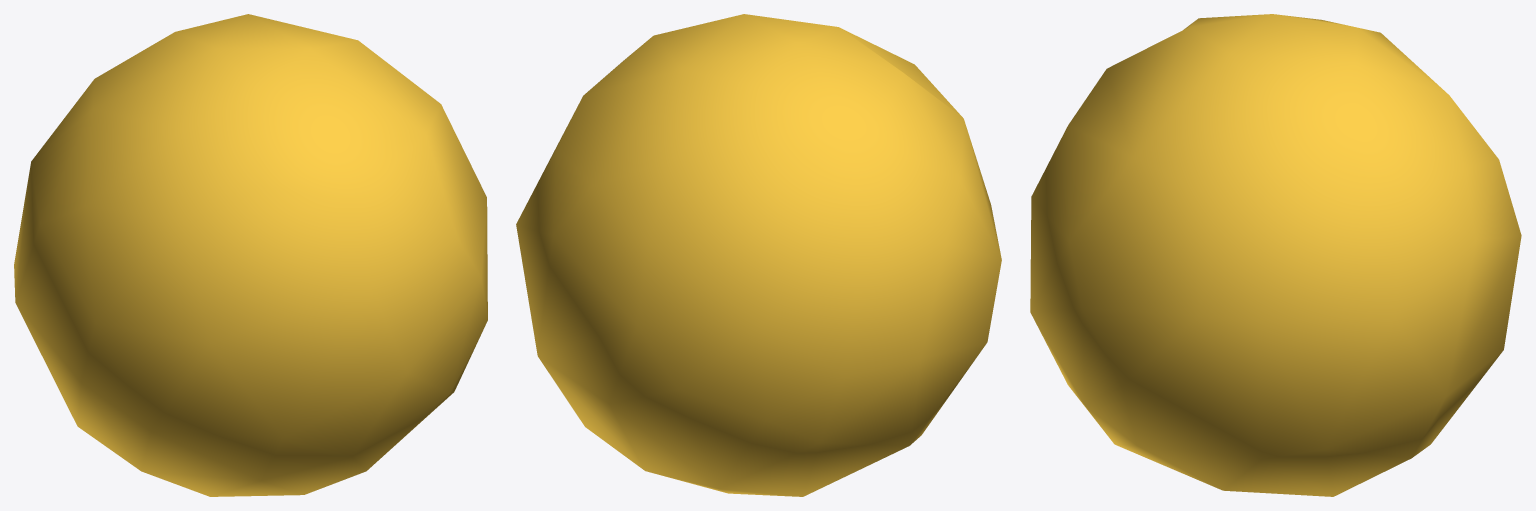
Rendered from Fuel-lite.glb.
3 renders of one model, left to right at view 1: azimuth 30°, elevation 25°; view 2: azimuth 150°, elevation 25°; view 3: azimuth 270°, elevation 25°, orthographic. The views are drawn at different scales.
Visible parts, largest first — view 1: GE-26900: Fuel; view 2: GE-26900: Fuel; view 3: GE-26900: Fuel.
Part boxes in pixels (x1,y1,x2,y2): GE-26900: Fuel: [14, 14, 487, 496]; GE-26900: Fuel: [516, 14, 1001, 496]; GE-26900: Fuel: [1030, 14, 1521, 496].
Size of the model in its own units: 0.1443 by 0.1486 by 0.1475.
